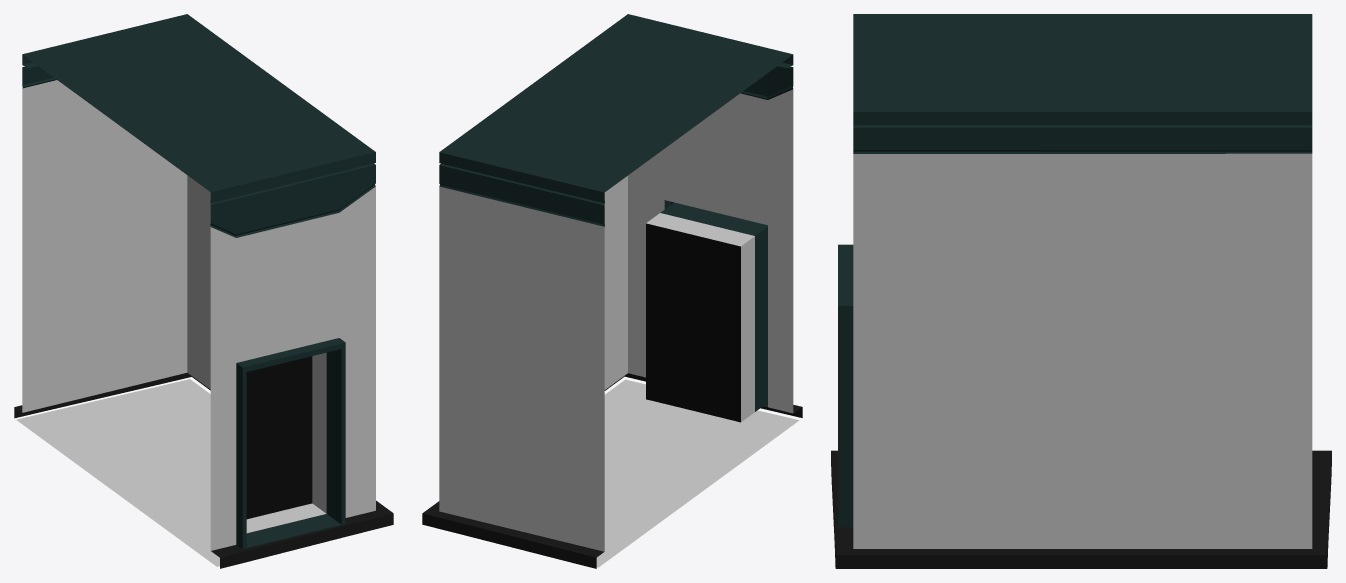
Rendered from SM_side_bld.fbx.
3 renders of one model, left to right at view 1: azimuth 30°, elevation 25°; view 2: azimuth 150°, elevation 25°; view 3: azimuth 270°, elevation 25°, orthographic. The views are drawn at different scales.
Visible parts, largest first — view 1: side_bld; view 2: side_bld; view 3: side_bld.
Boxes of the visible parts, <box> form: side_bld: <box>14,14,393,568</box>; side_bld: <box>422,14,802,568</box>; side_bld: <box>831,14,1331,568</box>.
Bounding box in the file's own units: 225 × 453 × 456.
